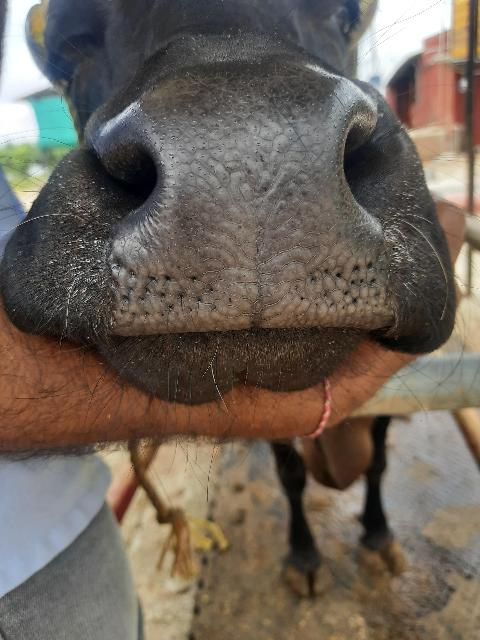Muzzle: (125, 77, 389, 341)
